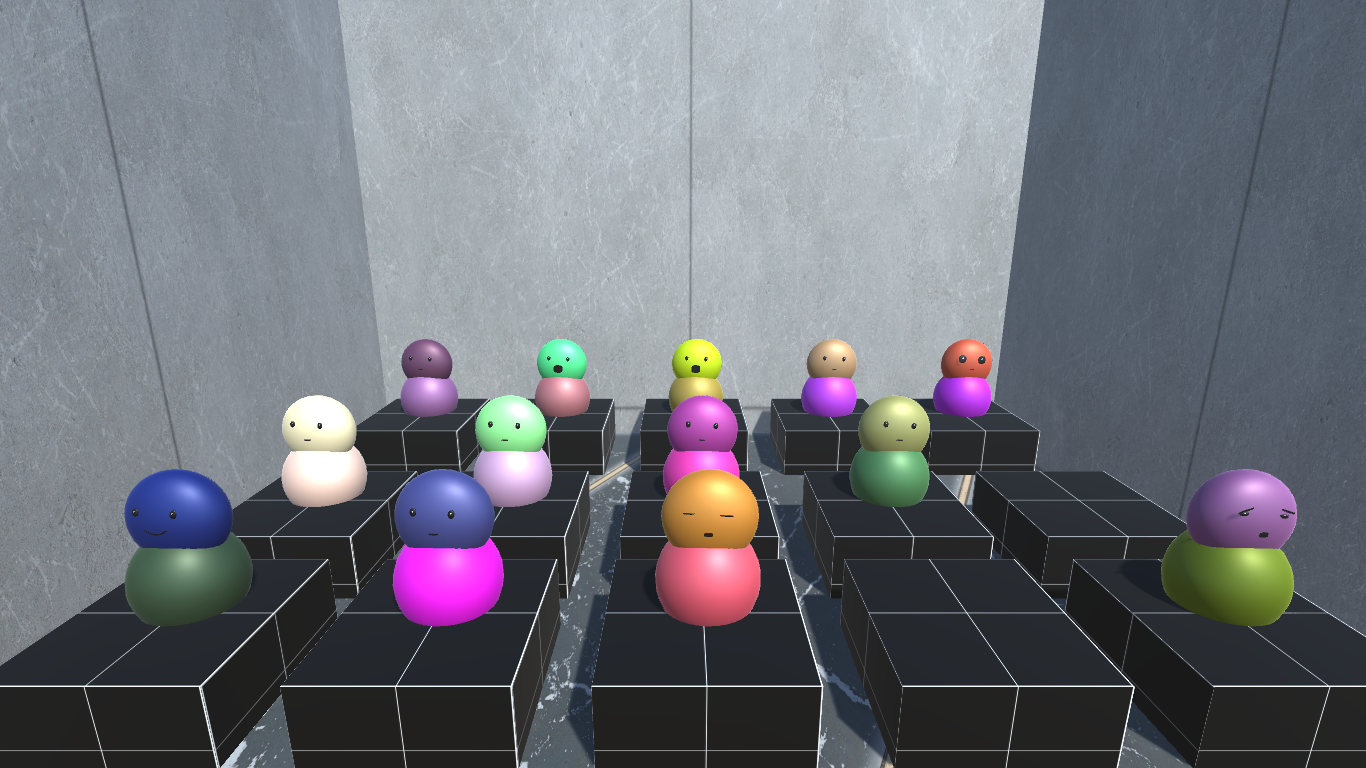blob_atento: (937, 333, 995, 385)
blob_dormindo: (651, 472, 766, 555)
blob_entediado: (1176, 464, 1303, 553)
blob_feliz: (114, 465, 230, 556)
blob_normal: (383, 457, 492, 549), (275, 393, 358, 454), (467, 392, 548, 451), (663, 393, 736, 458), (854, 390, 926, 453), (802, 335, 859, 383), (394, 335, 453, 378)
blob_surpreso: (533, 333, 590, 382), (665, 336, 723, 381)
